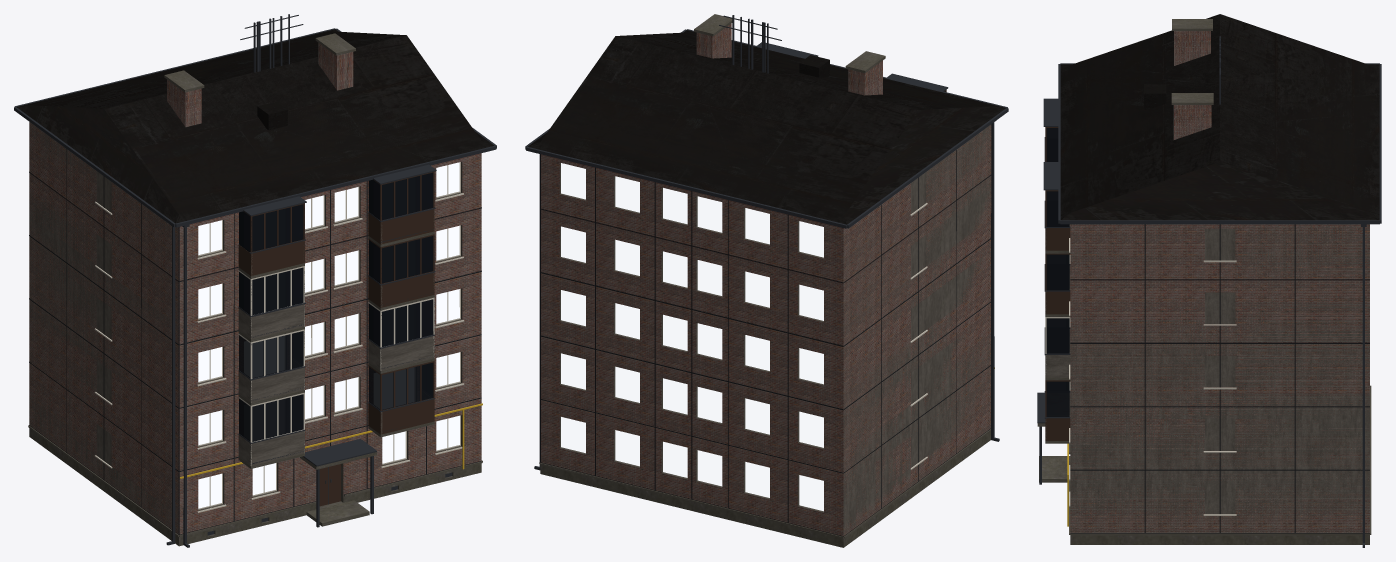
Rendered from khrushchovky.glb.
3 renders of one model, left to right at view 1: azimuth 30°, elevation 25°; view 2: azimuth 150°, elevation 25°; view 3: azimuth 270°, elevation 25°, orthographic.
Parts seen in each view (by area): view 1: khr_brick_a, khr_brick_end_l, khr_panel_end_l, khr_brick_end_r, khr_brick_b, khr_panel_b, khr_panel_a, khr_panel_end_r; view 2: khr_brick_a, khr_brick_end_l, khr_panel_end_l, khr_brick_end_r, khr_panel_a, khr_brick_b, khr_panel_b; view 3: khr_brick_end_r, khr_panel_end_r, khr_brick_a, khr_brick_end_l, khr_brick_b, khr_panel_b, khr_panel_end_l.
Part boxes in pixels (bbox=[...]): khr_brick_a: bbox=[28, 14, 487, 547]; khr_brick_end_l: bbox=[14, 16, 487, 545]; khr_panel_end_l: bbox=[29, 21, 432, 534]; khr_brick_end_r: bbox=[90, 22, 496, 464]; khr_brick_b: bbox=[173, 21, 436, 465]; khr_panel_b: bbox=[164, 18, 432, 402]; khr_panel_a: bbox=[172, 18, 481, 534]; khr_panel_end_r: bbox=[172, 21, 355, 377]; khr_brick_a: bbox=[534, 14, 998, 547]; khr_brick_end_l: bbox=[534, 17, 1008, 547]; khr_panel_end_l: bbox=[707, 22, 991, 536]; khr_brick_end_r: bbox=[525, 21, 996, 470]; khr_panel_a: bbox=[539, 18, 873, 536]; khr_brick_b: bbox=[694, 21, 885, 94]; khr_panel_b: bbox=[700, 15, 876, 95]; khr_brick_end_r: bbox=[1044, 14, 1381, 547]; khr_panel_end_r: bbox=[1070, 19, 1369, 533]; khr_brick_a: bbox=[1037, 14, 1381, 534]; khr_brick_end_l: bbox=[1045, 19, 1381, 354]; khr_brick_b: bbox=[1043, 19, 1220, 438]; khr_panel_b: bbox=[1047, 19, 1220, 352]; khr_panel_end_l: bbox=[1047, 19, 1220, 416].
Size of what is drawn, in the model's own units: 14.94 by 19.09 by 13.79.
Materials: 12 (4 with a texture image).
